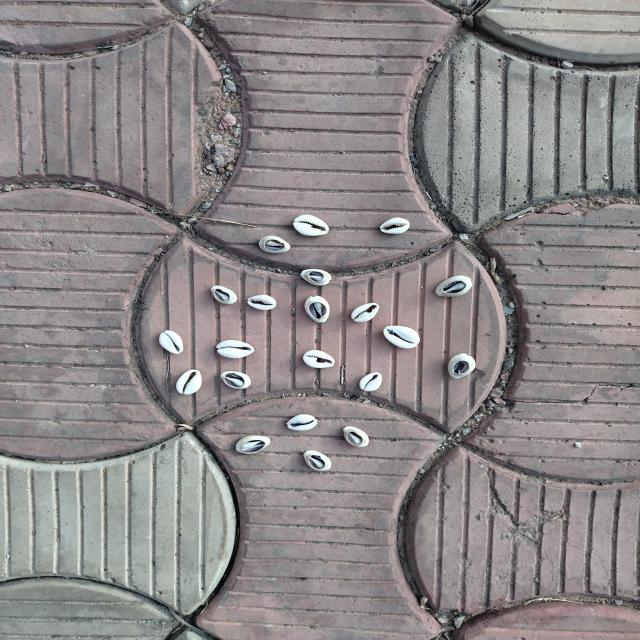facedown: (432, 274, 477, 300), (301, 292, 335, 325), (216, 368, 259, 391), (444, 353, 480, 380), (232, 434, 275, 456), (254, 234, 299, 255), (298, 266, 340, 288), (337, 425, 373, 450), (300, 448, 334, 472), (206, 283, 241, 306)
faceup: (288, 211, 336, 239), (382, 323, 424, 350), (372, 215, 420, 238), (156, 326, 189, 357), (173, 366, 205, 397), (214, 338, 258, 360), (282, 412, 324, 434), (300, 347, 338, 371), (348, 300, 384, 323), (353, 371, 389, 393), (243, 293, 280, 312)
